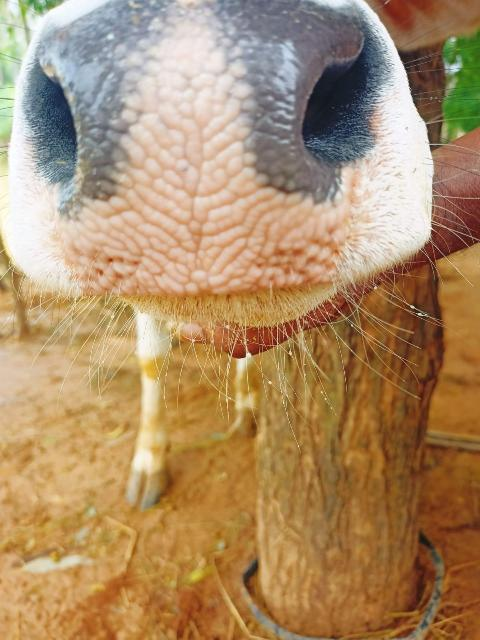Muzzle: (38, 21, 362, 287)
